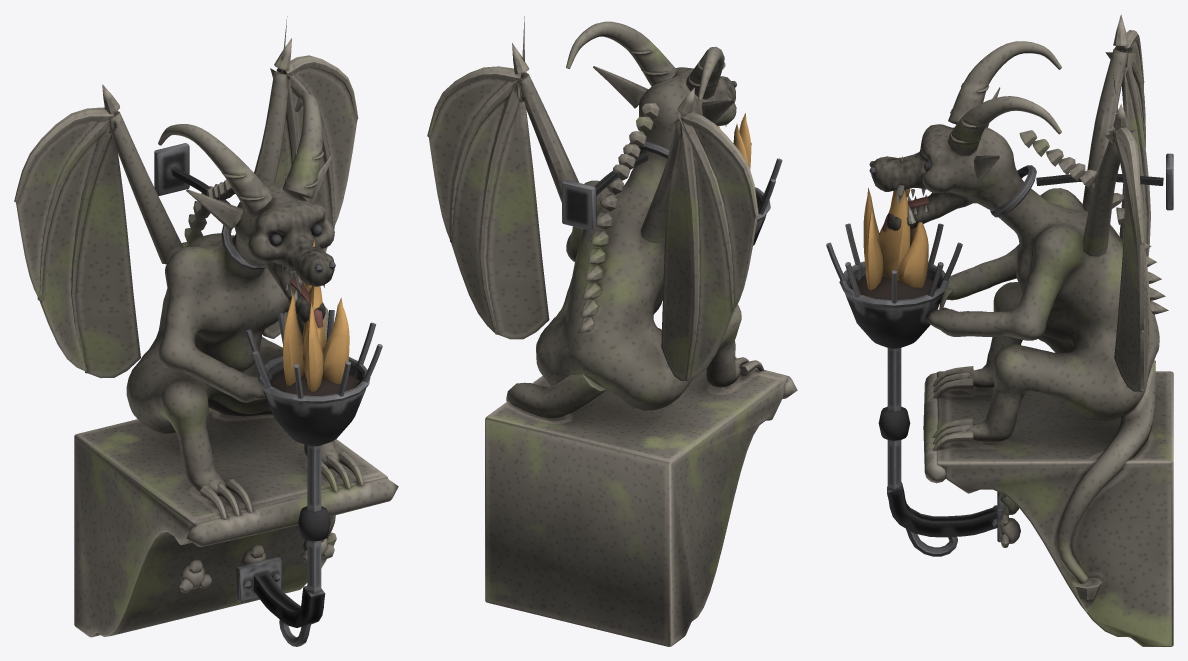
The model's file is SconceGargoyle.fbx.
3 views of the same model, side by side, from view 1: azimuth 30°, elevation 25°; view 2: azimuth 150°, elevation 25°; view 3: azimuth 270°, elevation 25° (orthographic). The views are drawn at different scales.
Visible parts, largest first — view 1: SconceGargoyle_Main, SconceGargoyle_Glow; view 2: SconceGargoyle_Main, SconceGargoyle_Glow; view 3: SconceGargoyle_Main, SconceGargoyle_Glow.
Part boxes in pixels (x1=…): SconceGargoyle_Main: x1=14, y1=16, x2=398, y2=646; SconceGargoyle_Glow: x1=283, y1=241, x2=349, y2=391; SconceGargoyle_Main: x1=427, y1=16, x2=797, y2=646; SconceGargoyle_Glow: x1=718, y1=113, x2=751, y2=169; SconceGargoyle_Main: x1=826, y1=14, x2=1173, y2=646; SconceGargoyle_Glow: x1=863, y1=156, x2=928, y2=290.
Bounding box in the file's own units: 146 × 239 × 132.
